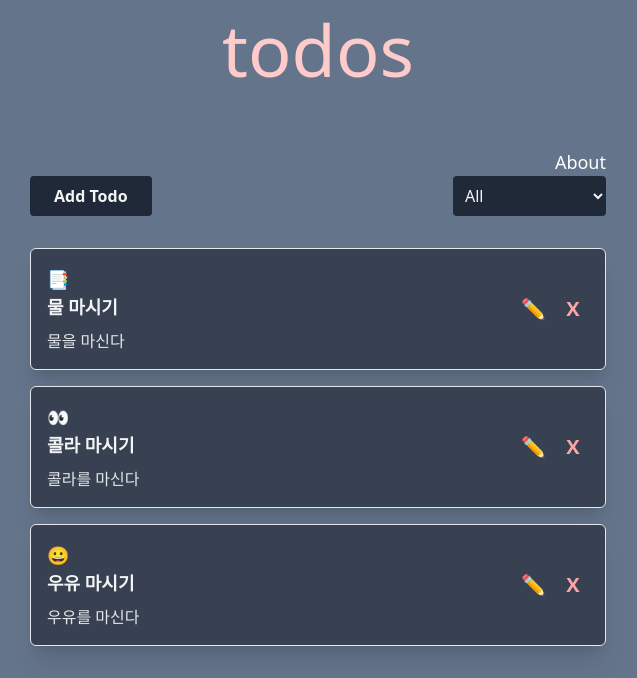
Test case: todo 관리 › 필터링 항목에 맞게 todo 목록들이 필터링된다.
Click the button "Add Todo": (91, 196) [30, 176, 152, 216]
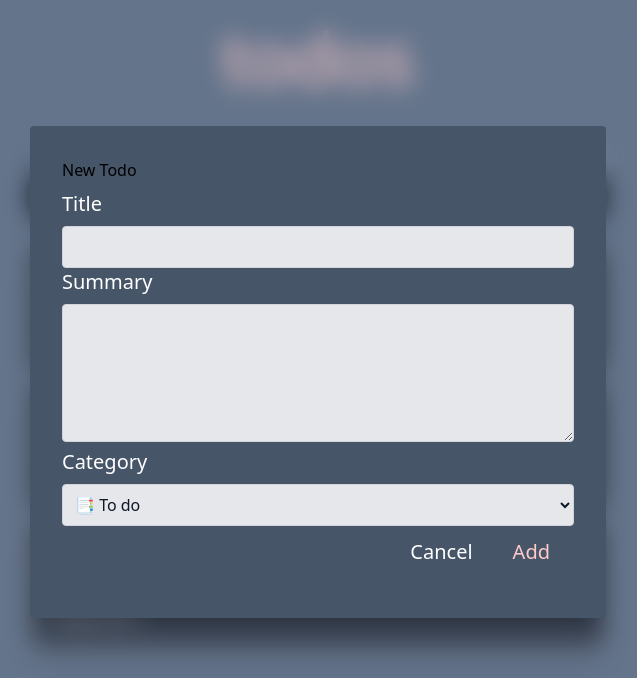
Open "/"
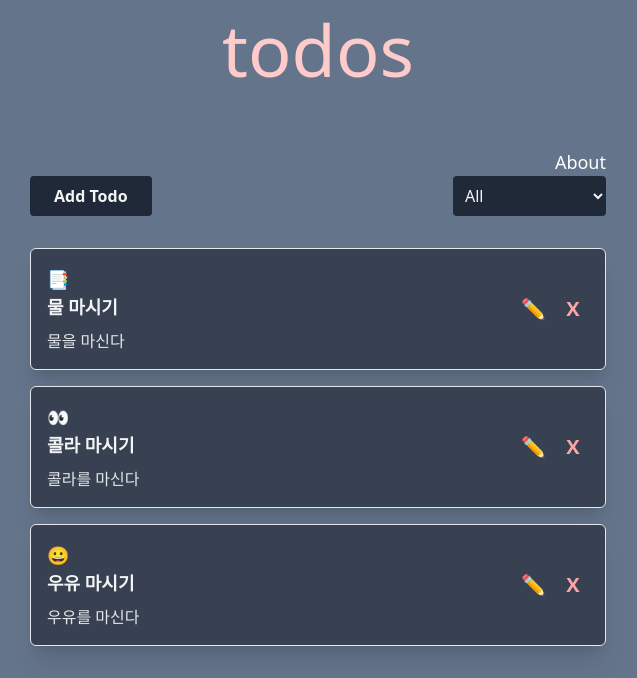
Select "📑 To do" in the dropdown with test id "todo-filter": (530, 196) [453, 176, 606, 216]
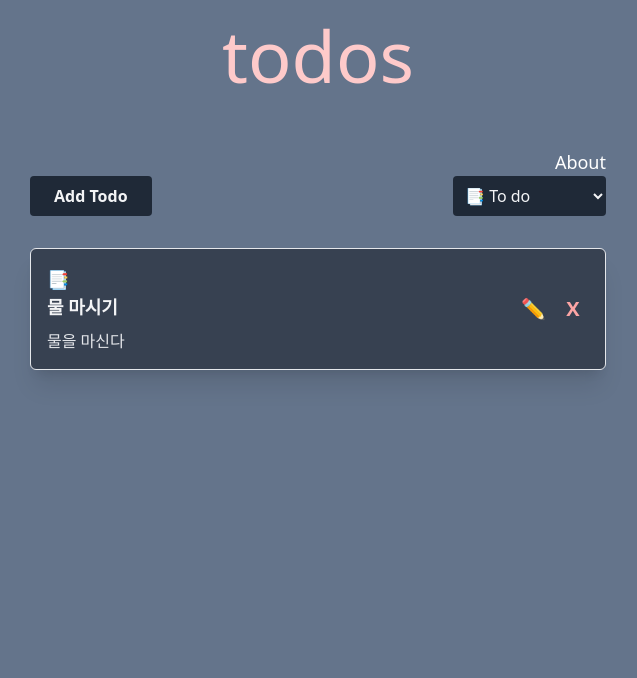
Expected: the number of list items is 1, [30, 248, 606, 370]
Select "👀 On progress" in the dropdown with test id "todo-filter": (530, 196) [453, 176, 606, 216]
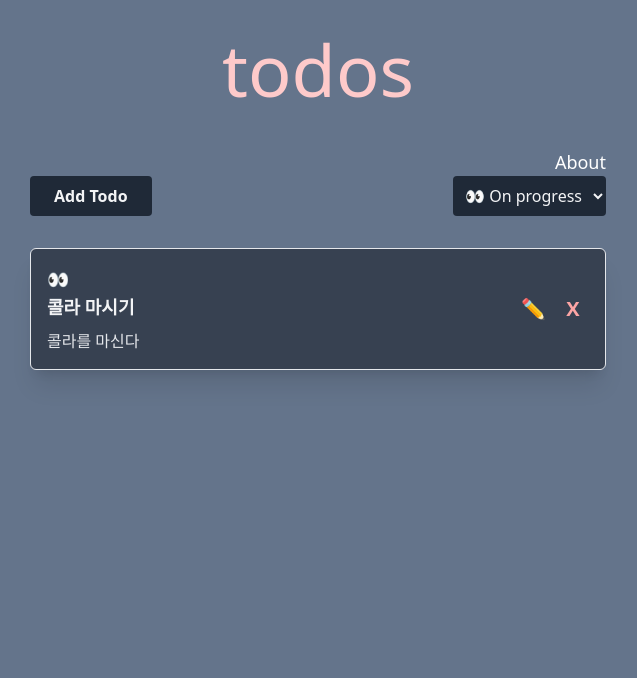
Expected: the number of list items is 1, [30, 248, 606, 370]
Select "😀 Done" in the dropdown with test id "todo-filter": (530, 196) [453, 176, 606, 216]
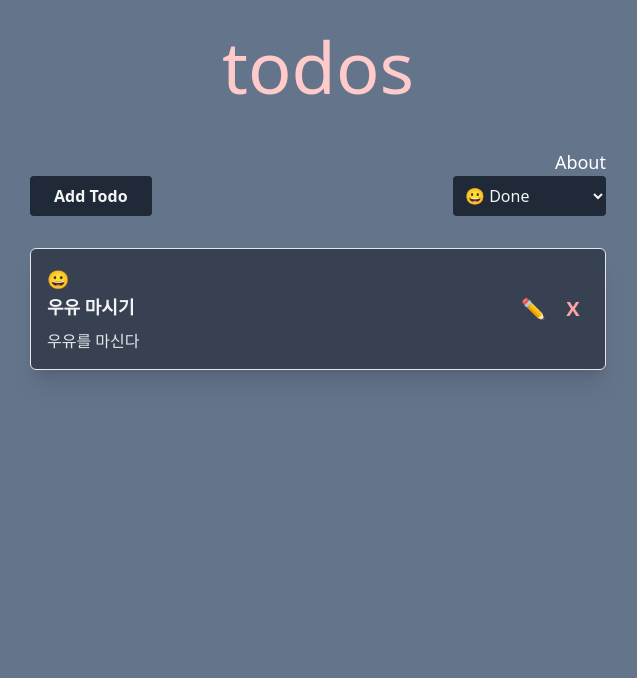
Expected: the number of list items is 1, [30, 248, 606, 370]
Select "All" in the dropdown with test id "todo-filter": (530, 196) [453, 176, 606, 216]
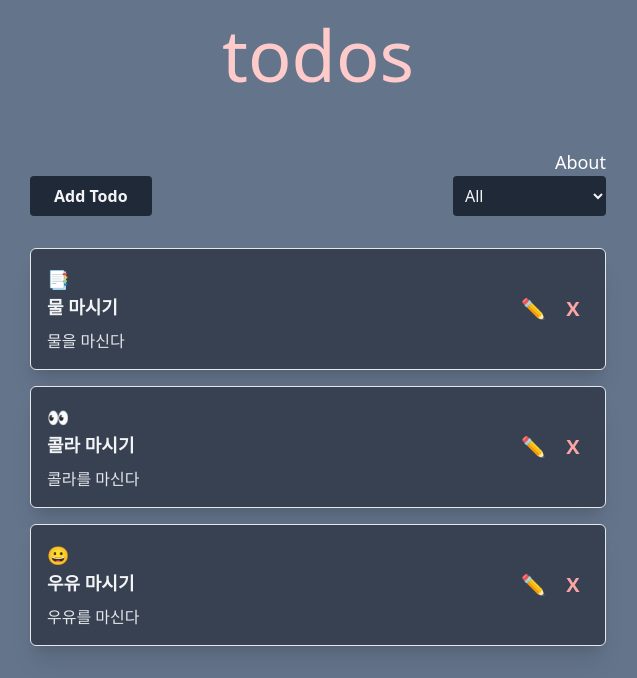
Expected: the number of list items is 3, [30, 248, 606, 370]; [30, 386, 606, 508]; [30, 524, 606, 646]
